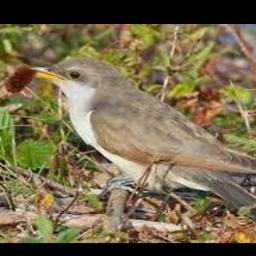Cuckoo: (29, 58, 256, 243)
